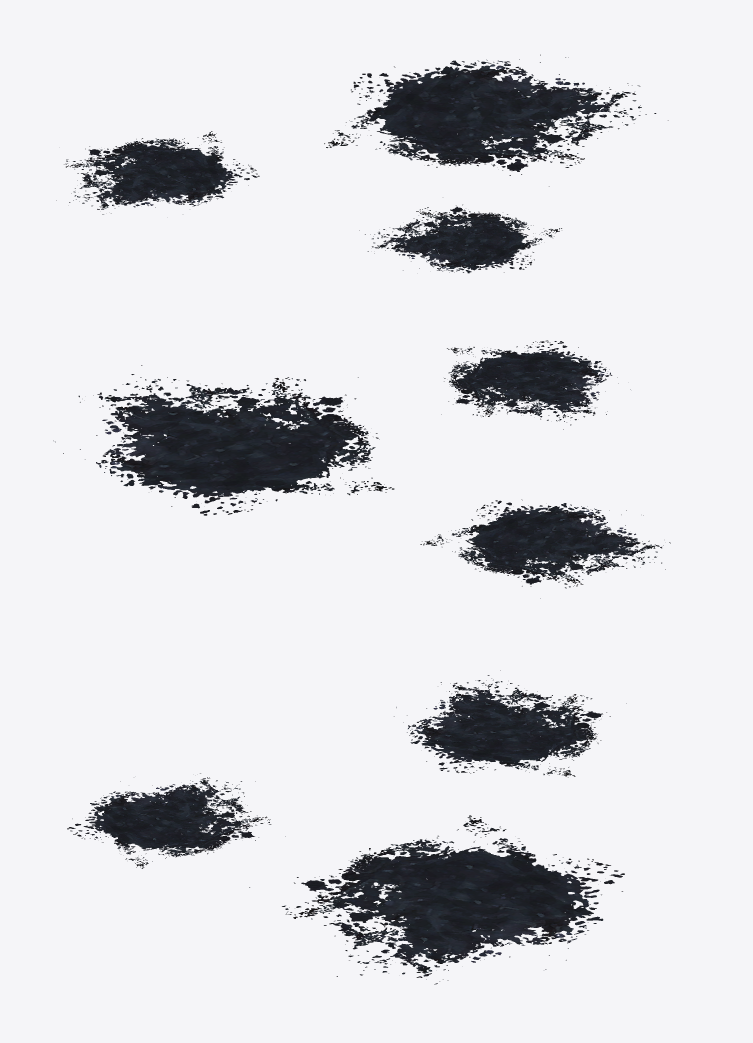
The model's file is palace_floor_decal_05.fbx.
3 views of the same model, one above another, from view 1: azimuth 30°, elevation 25°; view 2: azimuth 150°, elevation 25°; view 3: azimuth 270°, elevation 25° (orthographic). The views are drawn at different scales.
Parts seen in each view (by area): view 1: palace_tileset/palace_decalss01_shadow_mat; view 2: palace_tileset/palace_decalss01_shadow_mat; view 3: palace_tileset/palace_decalss01_shadow_mat.
Boxes of the visible parts, x1,y1,x2,y2 form: palace_tileset/palace_decalss01_shadow_mat: (56, 54, 668, 273); palace_tileset/palace_decalss01_shadow_mat: (53, 340, 670, 598); palace_tileset/palace_decalss01_shadow_mat: (67, 670, 626, 984).
Size of the model in its own units: 10.51 by 0.001 by 8.53.
